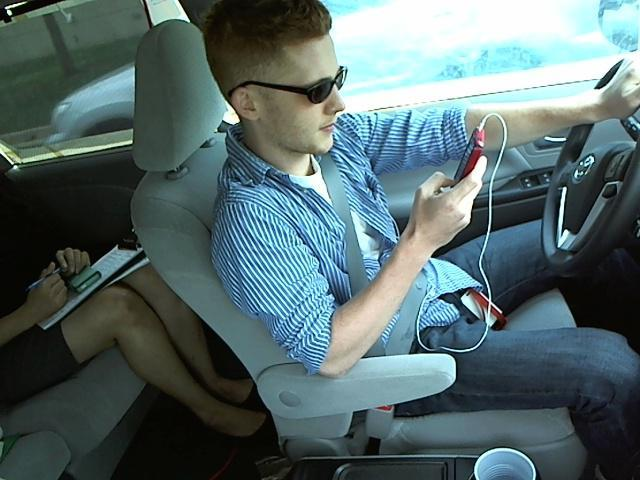PhoneUse: (446, 112, 491, 210)
